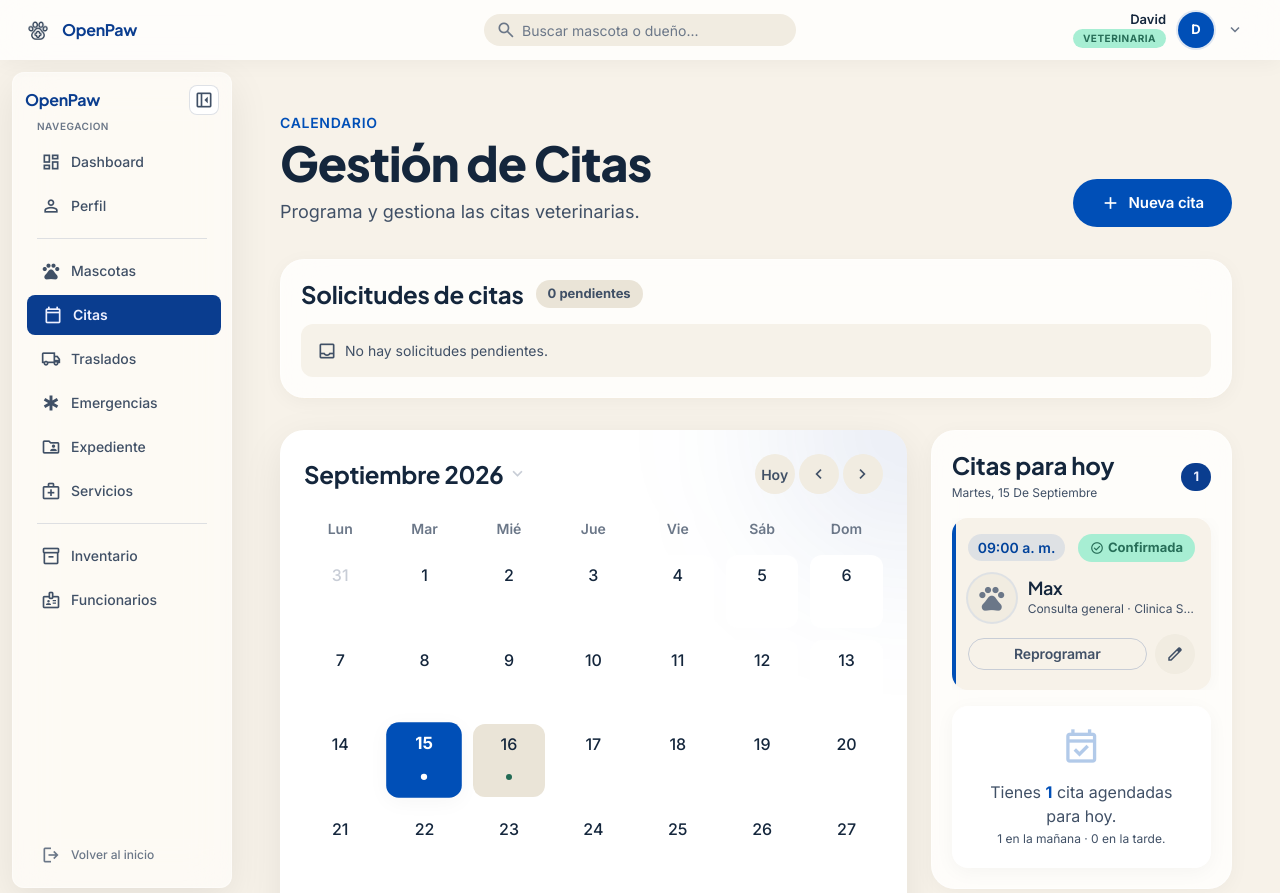
Scenario: CitasPage - rediseno calendario con dots por tipo (T27) › clic en otro dia lo selecciona y filtra el panel de citas
This screenshot has width=1280, height=893.
Click the button "16". click: [509, 760]
box: [473,724,545,797]
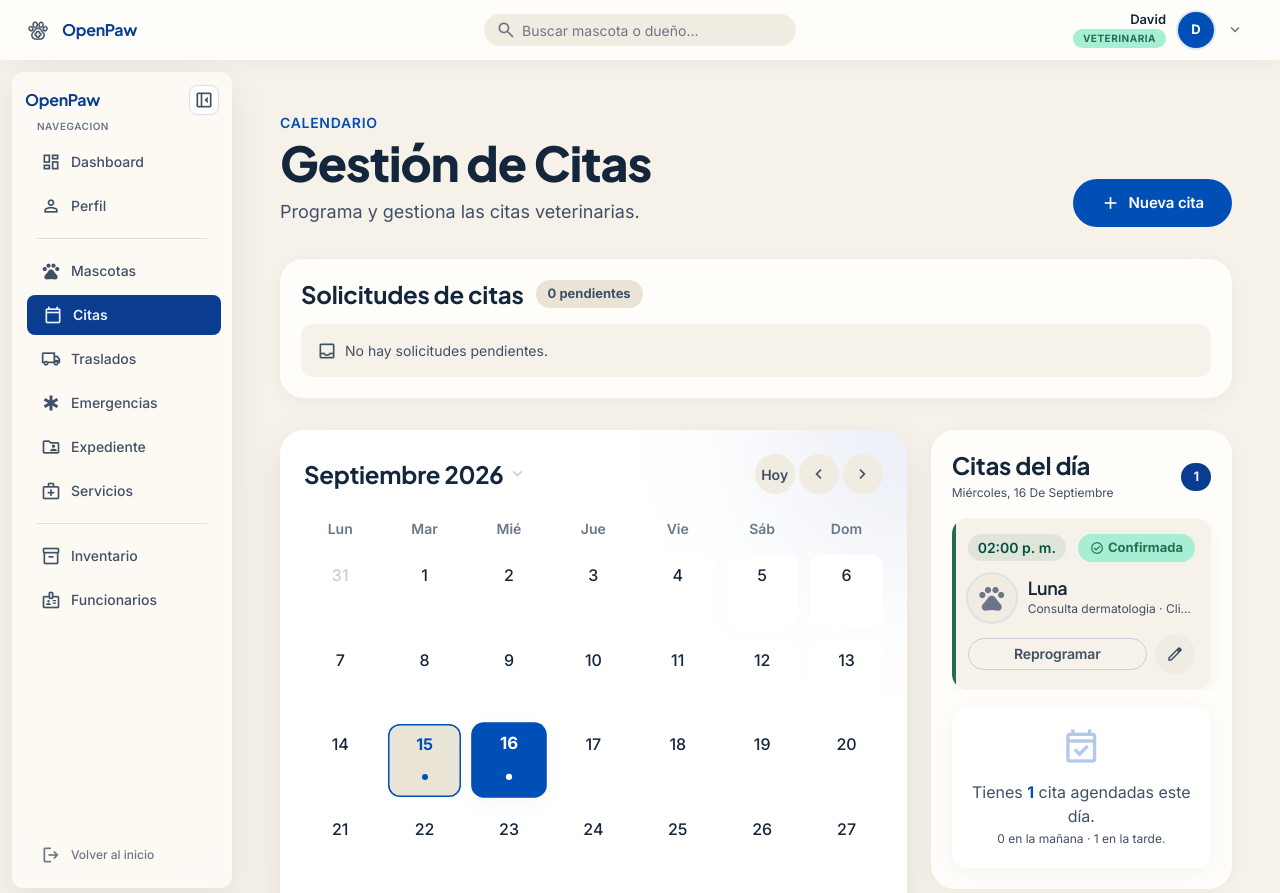
Expected: the heading "Max" is not shown
Now the heading "Luna" is shown, box [1028,576,1068,599]
Now the text "Consulta dermatologia" is shown, box [1028,602,1156,616]
